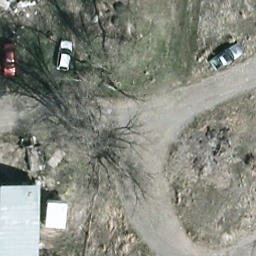car: (1, 44, 17, 78), (58, 42, 72, 74)
other: (207, 44, 246, 73)
